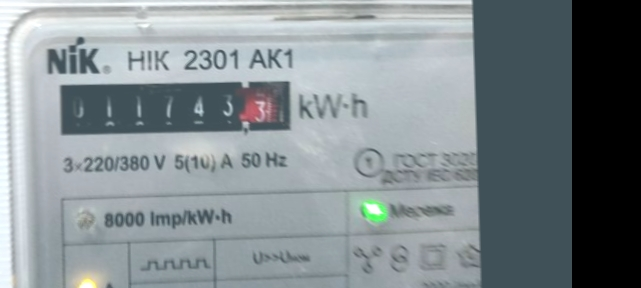0: (69, 91, 84, 120)
1: (130, 89, 143, 118), (101, 90, 112, 118)
3: (220, 89, 234, 117), (251, 97, 266, 123)
4: (190, 90, 204, 118)
7: (159, 88, 175, 117)
screen: (47, 65, 302, 147)
